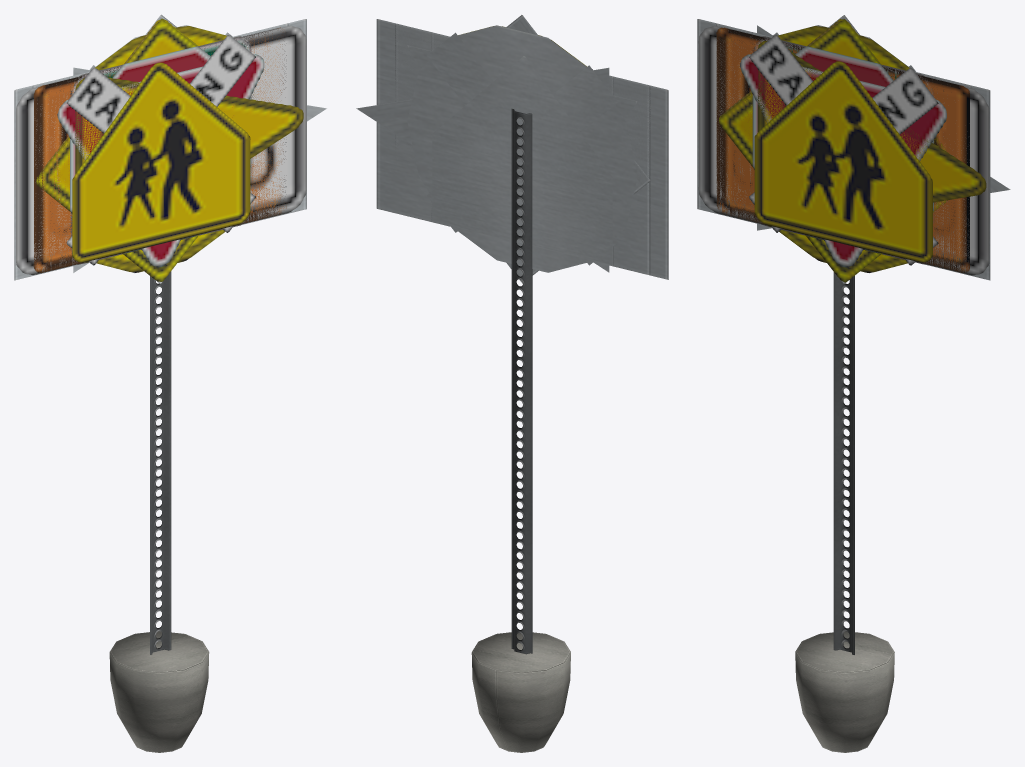
Rendered from roadSigns_mesh.fbx.
3 views of the same model, side by side, from view 1: azimuth 30°, elevation 25°; view 2: azimuth 150°, elevation 25°; view 3: azimuth 330°, elevation 25° (orthographic).
Visible parts, largest first — view 1: school_sign, roadClosed_sign2, signPostwCement, detourLeft_sign, signPost, railroad_sign2, noPassing_sign, fourWay_sign, yield_sign, railroad_sign, stop_sign, airport_sign; view 2: school_sign, railroad_sign, roadClosed_sign2, signPost, signPostwCement, detourLeft_sign, railroad_sign2, noPassing_sign, yield_sign, fourWay_sign; view 3: school_sign, detourLeft_sign, signPostwCement, roadClosed_sign2, signPost, railroad_sign2, noPassing_sign, fourWay_sign, yield_sign, railroad_sign, stop_sign, airport_sign.
Part boxes in pixels (left/top/right/bottom): school_sign: left=72, top=62, right=250, bottom=262; roadClosed_sign2: left=14, top=19, right=306, bottom=280; signPostwCement: left=109, top=631, right=209, bottom=752; detourLeft_sign: left=32, top=23, right=288, bottom=275; signPost: left=150, top=271, right=171, bottom=654; railroad_sign2: left=66, top=32, right=255, bottom=265; noPassing_sign: left=73, top=67, right=326, bottom=272; fourWay_sign: left=36, top=14, right=198, bottom=284; yield_sign: left=57, top=54, right=264, bottom=267; railroad_sign: left=95, top=25, right=226, bottom=273; stop_sign: left=70, top=46, right=251, bottom=253; airport_sign: left=69, top=32, right=251, bottom=266; school_sign: left=432, top=55, right=612, bottom=265; railroad_sign: left=407, top=25, right=637, bottom=272; roadClosed_sign2: left=376, top=19, right=668, bottom=279; signPost: left=511, top=109, right=532, bottom=654; signPostwCement: left=471, top=632, right=570, bottom=752; detourLeft_sign: left=395, top=23, right=650, bottom=275; railroad_sign2: left=427, top=32, right=617, bottom=265; noPassing_sign: left=356, top=67, right=609, bottom=272; yield_sign: left=407, top=45, right=637, bottom=276; fourWay_sign: left=506, top=15, right=650, bottom=283; school_sign: left=754, top=61, right=932, bottom=262; detourLeft_sign: left=716, top=23, right=971, bottom=275; signPostwCement: left=795, top=631, right=894, bottom=752; roadClosed_sign2: left=697, top=19, right=990, bottom=280; signPost: left=833, top=272, right=854, bottom=654; railroad_sign2: left=749, top=32, right=938, bottom=265; noPassing_sign: left=757, top=25, right=1010, bottom=230; fourWay_sign: left=718, top=15, right=948, bottom=283; yield_sign: left=740, top=54, right=946, bottom=267; railroad_sign: left=778, top=25, right=914, bottom=273; stop_sign: left=752, top=46, right=933, bottom=253; airport_sign: left=752, top=32, right=935, bottom=266.
Bounding box in the file's own units: 144 × 322 × 39.62.
